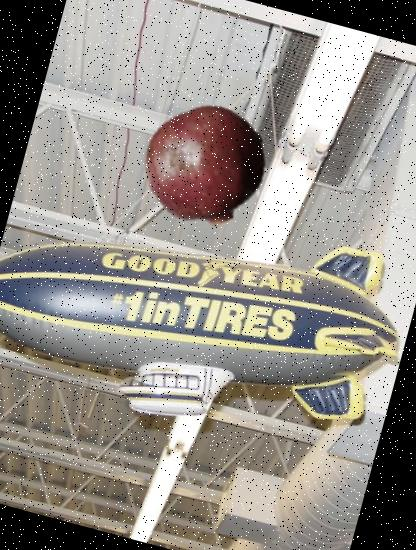Pomegranate: (131, 91, 282, 242)
